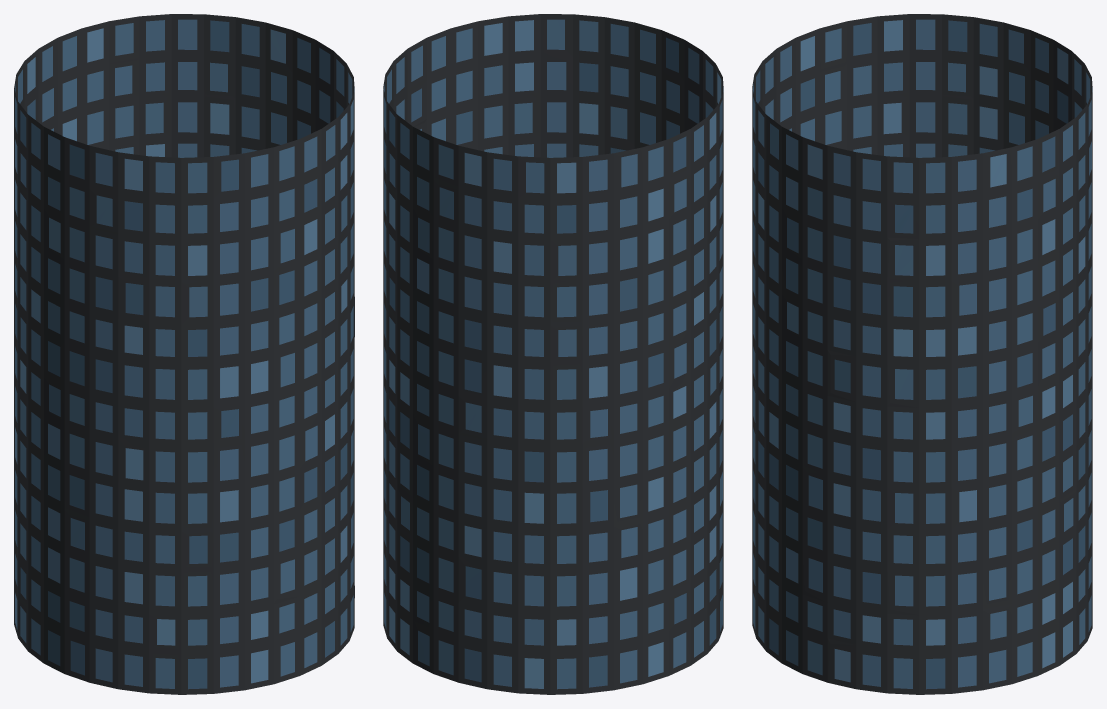
The model's file is bld_round3.glb.
3 renders of one model, left to right at view 1: azimuth 30°, elevation 25°; view 2: azimuth 150°, elevation 25°; view 3: azimuth 270°, elevation 25°, orthographic.
Parts seen in each view (by area): view 1: SM_Bld_OfficeRound_03; view 2: SM_Bld_OfficeRound_03; view 3: SM_Bld_OfficeRound_03.
Boxes of the visible parts, <box> form: SM_Bld_OfficeRound_03: <box>14,14,354,694</box>; SM_Bld_OfficeRound_03: <box>383,14,723,694</box>; SM_Bld_OfficeRound_03: <box>752,14,1092,694</box>.
Size of the model in its own units: 22.04 by 38.36 by 22.05.
1 material, 1 textured.
